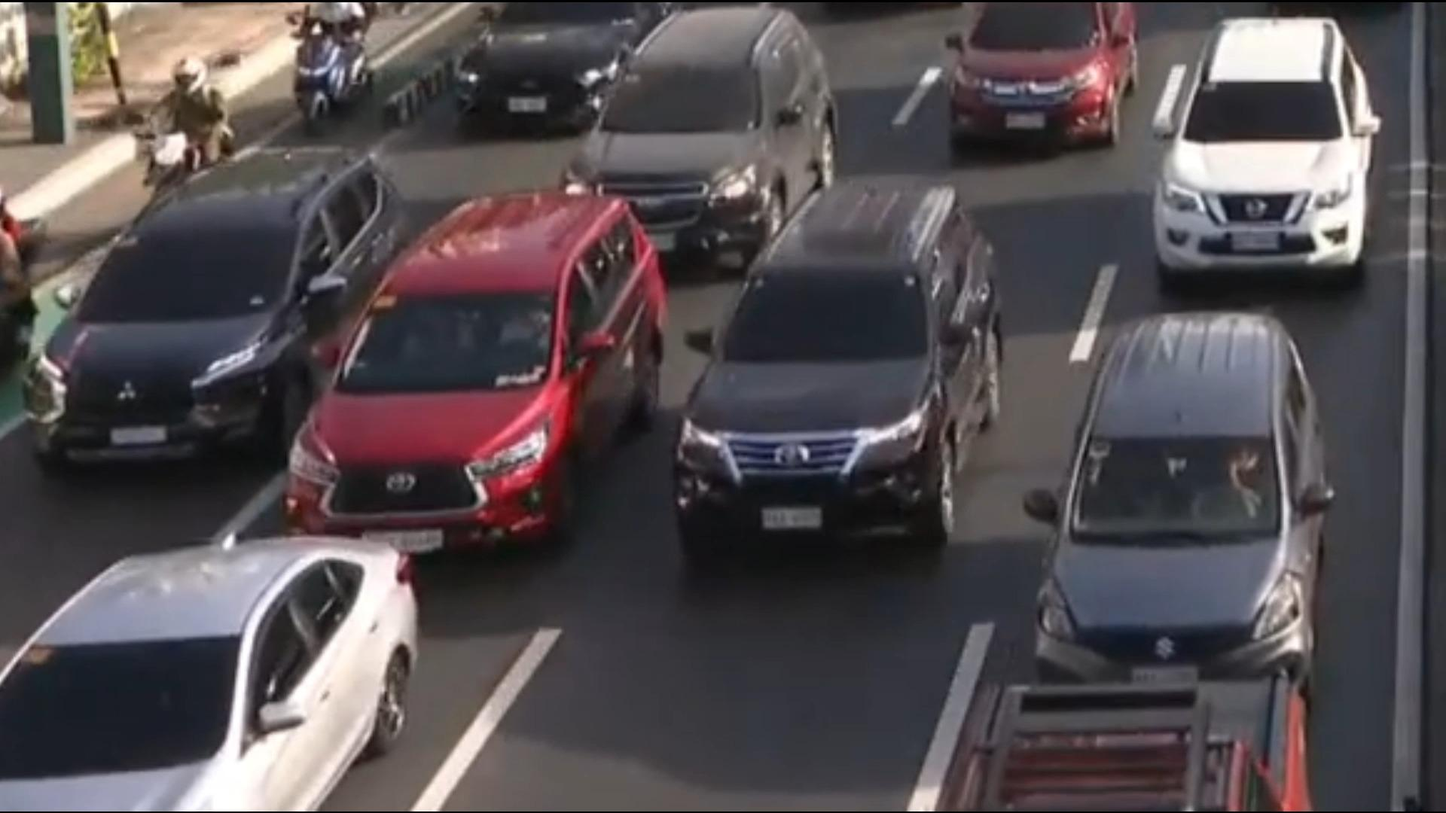Motorcycle: (134, 49, 247, 191), (280, 0, 377, 148)
SUV: (281, 196, 665, 569), (16, 144, 407, 484), (665, 173, 1005, 563), (1026, 314, 1325, 675), (545, 0, 840, 273), (1139, 28, 1379, 268)
Sedan: (0, 533, 417, 813)
